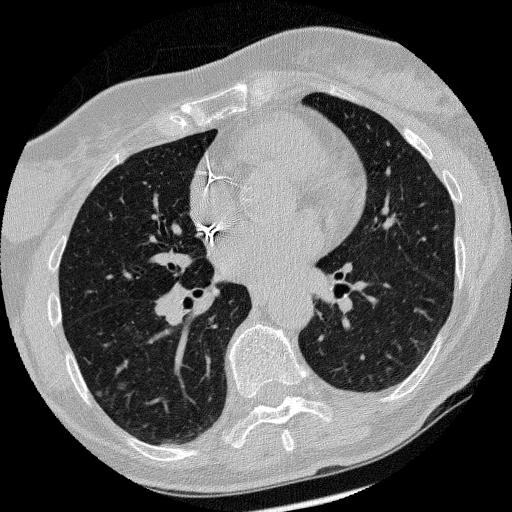nodule: (115, 379, 129, 393)
